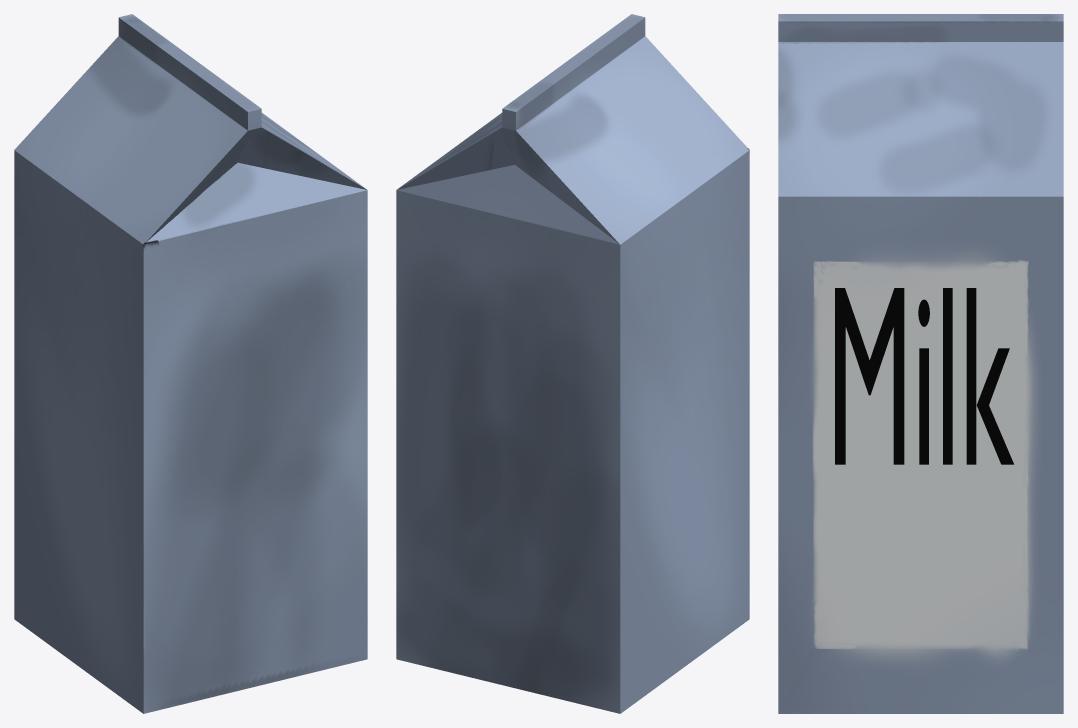
The model's file is Milk.fbx.
3 renders of one model, left to right at view 1: azimuth 30°, elevation 25°; view 2: azimuth 150°, elevation 25°; view 3: azimuth 270°, elevation 25°, orthographic. The views are drawn at different scales.
Visible parts, largest first — view 1: Body; view 2: Body; view 3: Body, Label.
Boxes of the visible parts, bbox=[...] form: Body: bbox=[14, 14, 367, 713]; Body: bbox=[396, 14, 749, 713]; Body: bbox=[778, 14, 1063, 713]; Label: bbox=[835, 288, 1013, 464].
Bounding box in the file's own units: 102 × 246 × 100.
